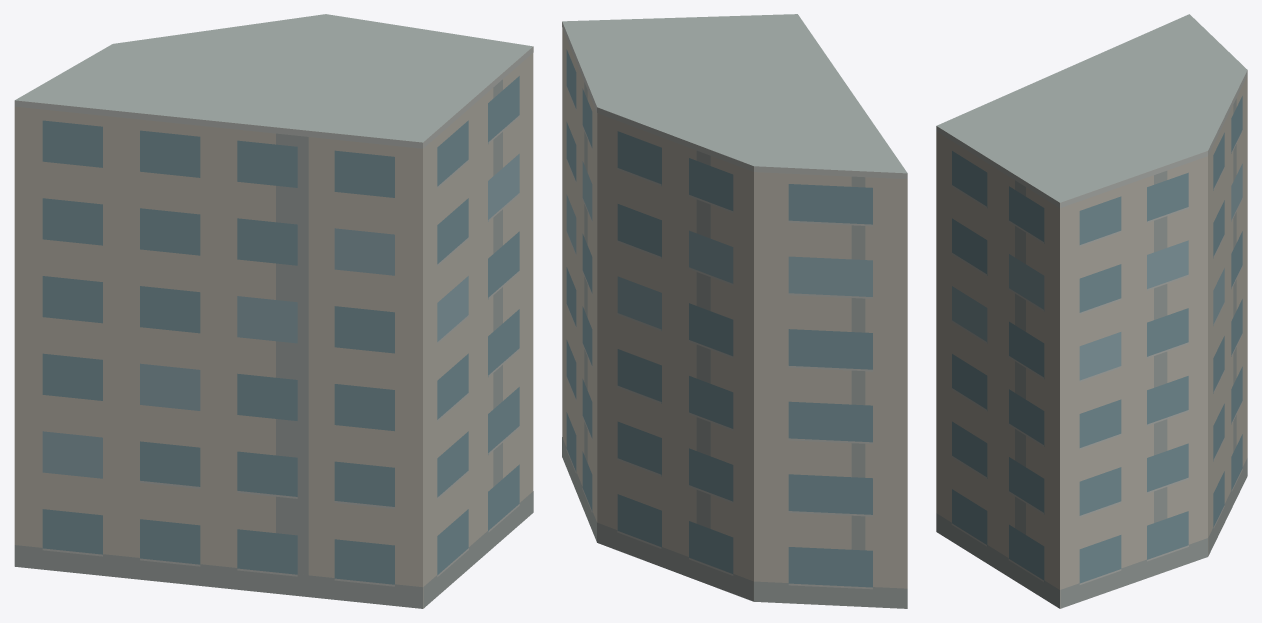
File: survey-upis-33008062.glb
3 renders of one model, left to right at view 1: azimuth 30°, elevation 25°; view 2: azimuth 150°, elevation 25°; view 3: azimuth 270°, elevation 25°, orthographic. The views are drawn at different scales.
Visible parts, largest first — view 1: survey-upis-33008062.tmp; view 2: survey-upis-33008062.tmp; view 3: survey-upis-33008062.tmp.
Boxes of the visible parts, x1=… form: survey-upis-33008062.tmp: x1=14, y1=14, x2=533, y2=608; survey-upis-33008062.tmp: x1=562, y1=14, x2=907, y2=608; survey-upis-33008062.tmp: x1=936, y1=14, x2=1247, y2=608.
Bounding box in the file's own units: 18.26 × 18.3 × 12.72.
